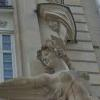Statue: (24, 31, 91, 100)
